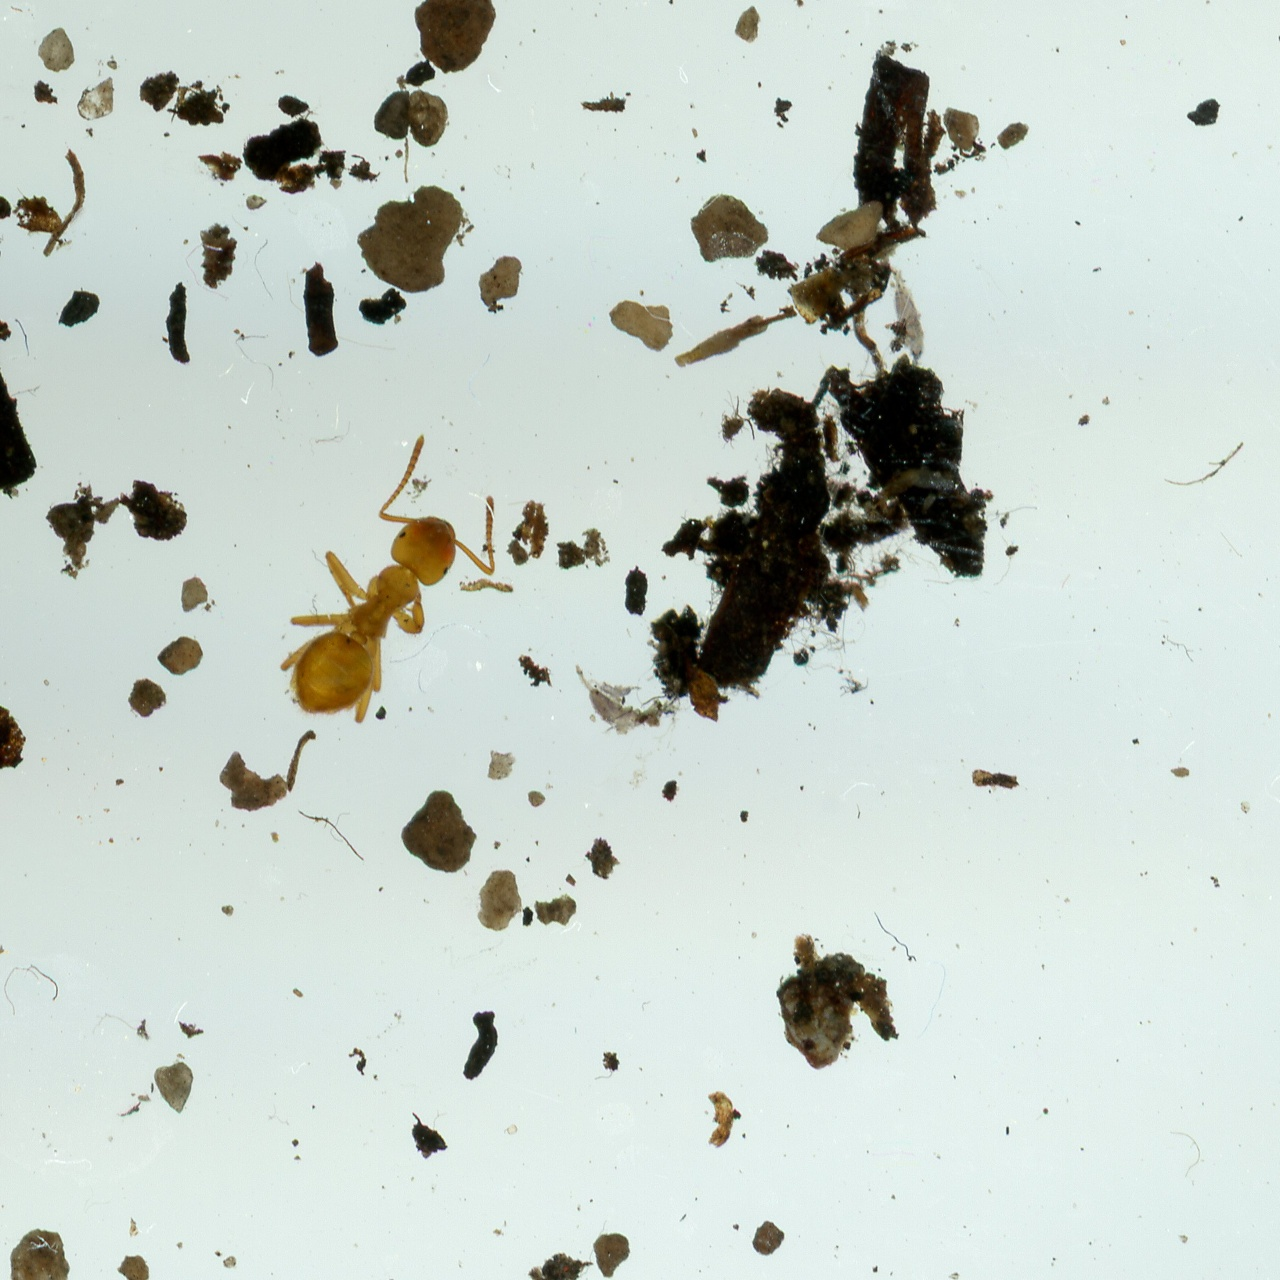arthropod: (246, 414, 543, 769), (574, 663, 681, 736), (880, 258, 934, 372), (588, 678, 644, 702)
